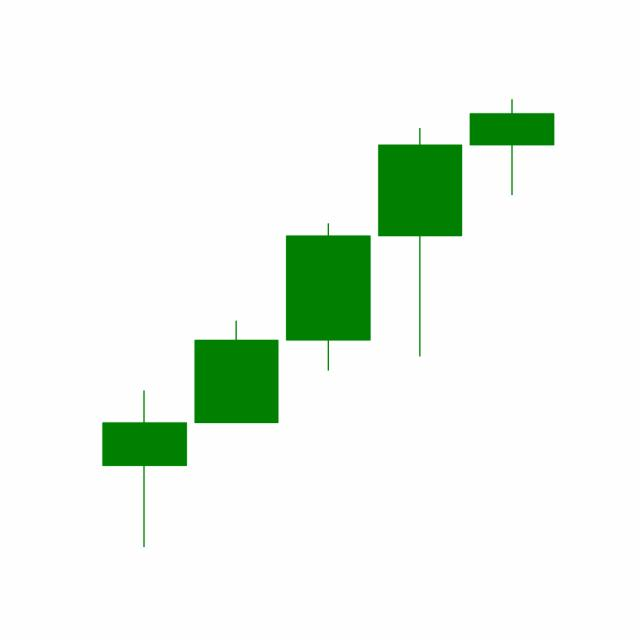Hanging Man: (464, 98, 558, 196)
